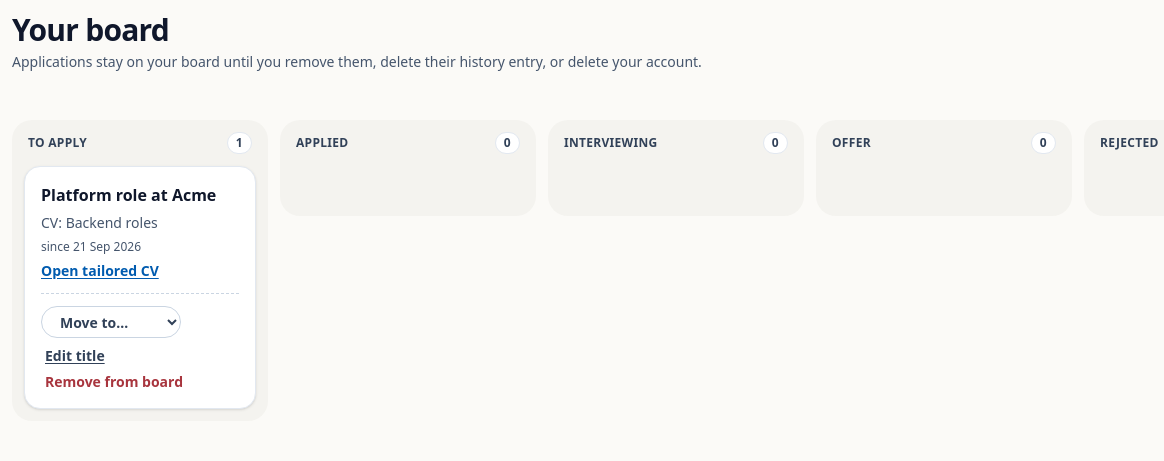
Test: A refused move rolls back with its own copy (AC-34) › 409 version conflict: restored, the board refetched, and "changed in another tab"
Expected: the text "Platform role at Acme" is shown, [41,183,239,207]
Select "Interviewing" in the dropdown named "move to" at (111, 322), box [41,306,181,338]
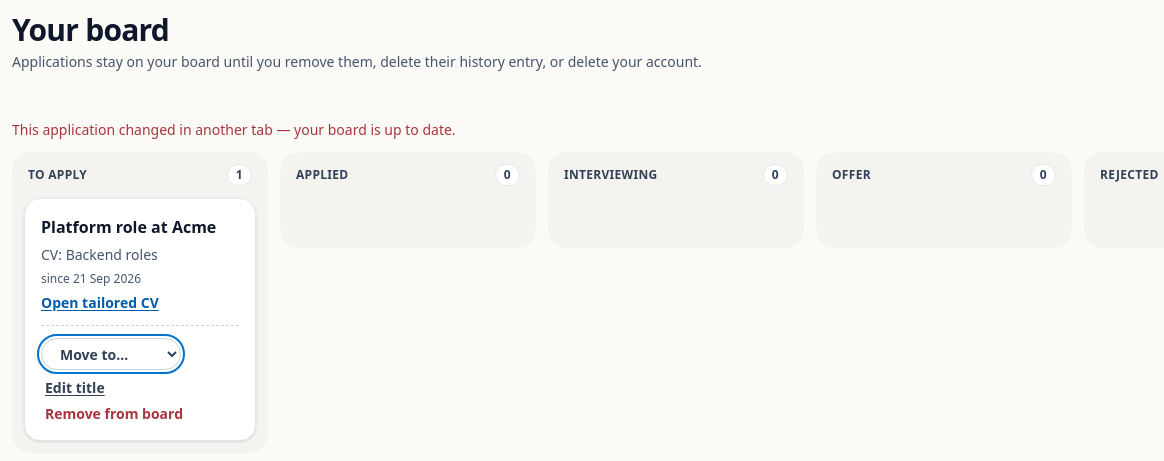
Result: the message reads "This application changed in another tab — your board is up to date." at [12,120,456,139]
